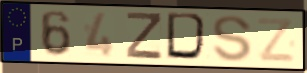4: (83, 11, 117, 60)
6: (38, 9, 72, 58)
D: (164, 11, 211, 64)
S: (211, 14, 254, 64)
Z: (255, 16, 297, 64), (125, 11, 164, 62)
